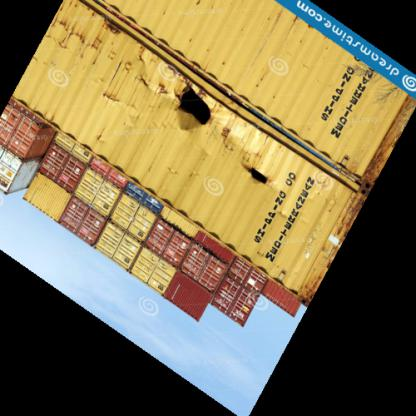Damage: (53, 20, 165, 98), (168, 72, 218, 138), (239, 148, 277, 194)
